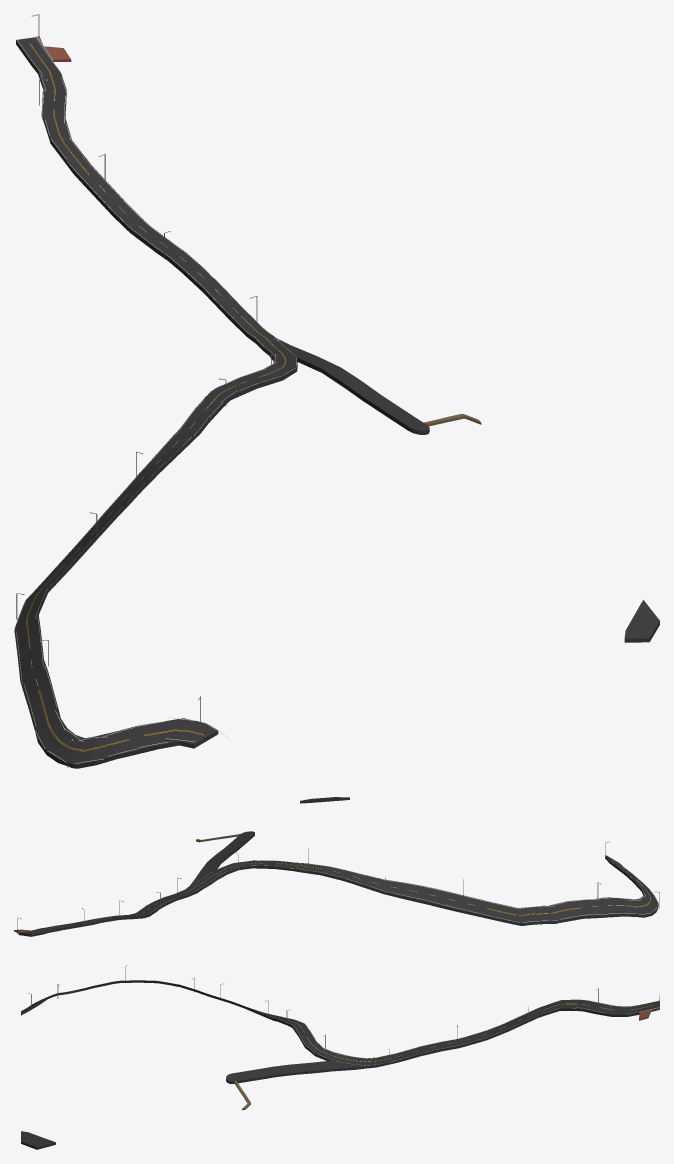
The picture shows the model from 3 angles, top to bottom: view 1: azimuth 30°, elevation 25°; view 2: azimuth 150°, elevation 25°; view 3: azimuth 270°, elevation 25°; orthographic projection. The views are drawn at different scales.
Bounding box in the file's own units: 175 × 71.72 × 295.
